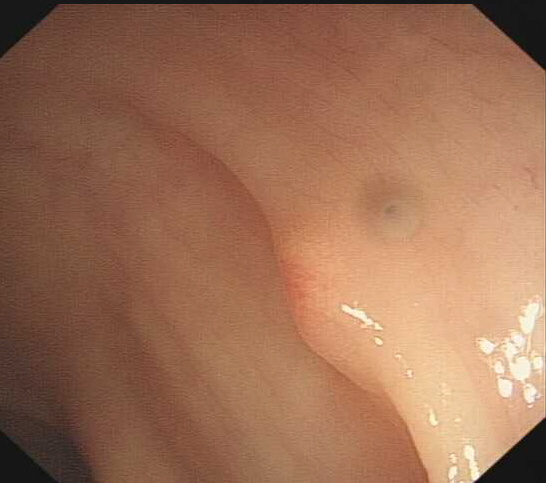others: (267, 230, 391, 400)
